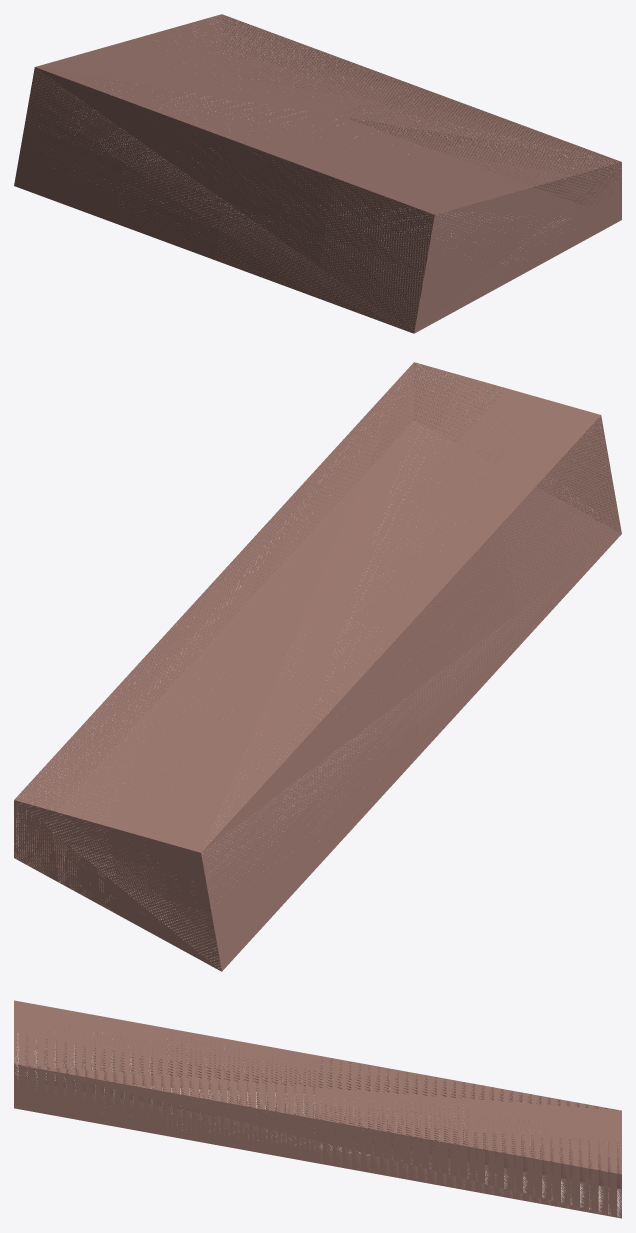
File: SW_ENV_EL_TrackBase_Walkway_Rise_Side_5m_Collision.fbx
3 views of the same model, one above another, from view 1: azimuth 30°, elevation 25°; view 2: azimuth 150°, elevation 25°; view 3: azimuth 270°, elevation 25° (orthographic). The views are drawn at different scales.
Parts seen in each view (by area): view 1: SW_ENV_EL_TrackBase_Walkway_Rise_Side_5m_Collision; view 2: SW_ENV_EL_TrackBase_Walkway_Rise_Side_5m_Collision; view 3: SW_ENV_EL_TrackBase_Walkway_Rise_Side_5m_Collision.
Boxes of the visible parts, x1=… form: SW_ENV_EL_TrackBase_Walkway_Rise_Side_5m_Collision: x1=14, y1=14, x2=621, y2=333; SW_ENV_EL_TrackBase_Walkway_Rise_Side_5m_Collision: x1=14, y1=362, x2=621, y2=971; SW_ENV_EL_TrackBase_Walkway_Rise_Side_5m_Collision: x1=14, y1=1000, x2=621, y2=1218.
Size of the model in its own units: 150 by 183 by 500.
